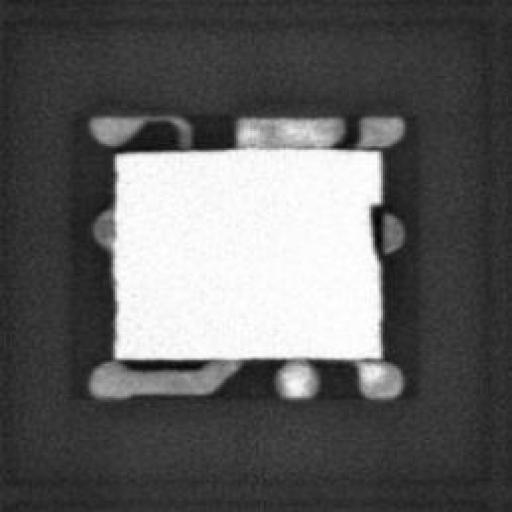DIE_BROKEN: (365, 197, 385, 262)
